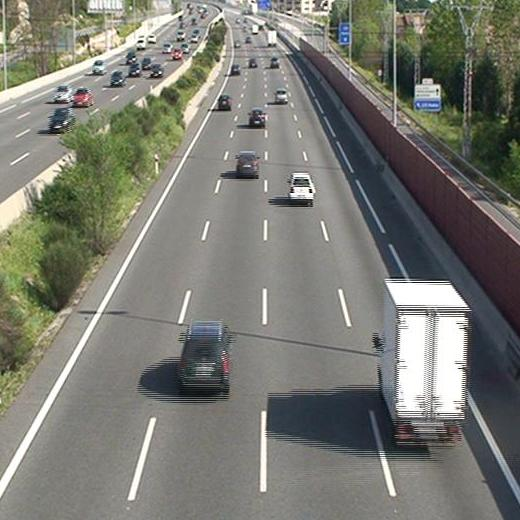car: (178, 323, 230, 387), (288, 173, 315, 203), (237, 150, 258, 177), (250, 108, 266, 126), (274, 87, 288, 103), (218, 95, 232, 109), (248, 56, 258, 68), (230, 65, 240, 76), (269, 57, 278, 66)
small-truck: (377, 279, 470, 445)
